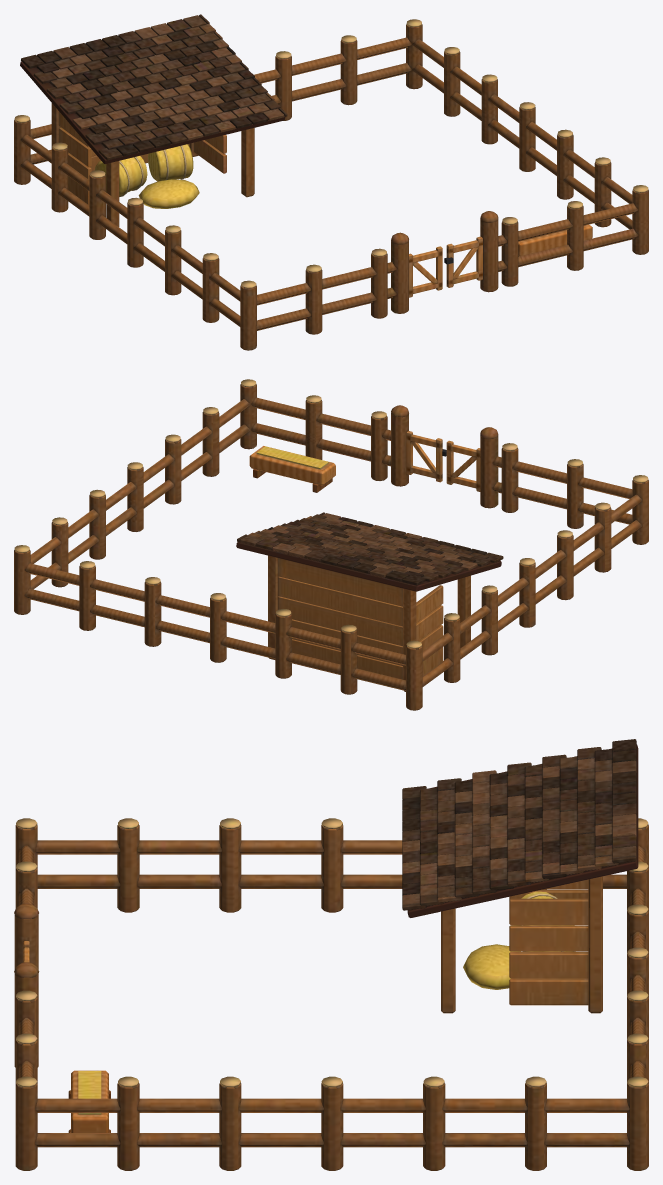
Rendered from bison_range.glb.
3 renders of one model, top to bottom at view 1: azimuth 30°, elevation 25°; view 2: azimuth 150°, elevation 25°; view 3: azimuth 270°, elevation 25°, orthographic. The views are drawn at different scales.
Parts seen in each view (by area): view 1: bison_range, gate1, gate0; view 2: bison_range, gate1, gate0; view 3: bison_range.
Boxes of the visible parts, left/top/right/bottom form: bison_range: left=14, top=14, right=648, bottom=350; gate1: left=444, top=236, right=482, bottom=287; gate0: left=409, top=246, right=442, bottom=297; bison_range: left=14, top=379, right=648, bottom=710; gate1: left=406, top=431, right=446, bottom=482; gate0: left=446, top=440, right=480, bottom=491; bison_range: left=14, top=739, right=648, bottom=1170.
Size of the model in its own units: 3 by 0.9345 by 3.01.
1 material, 1 textured.
